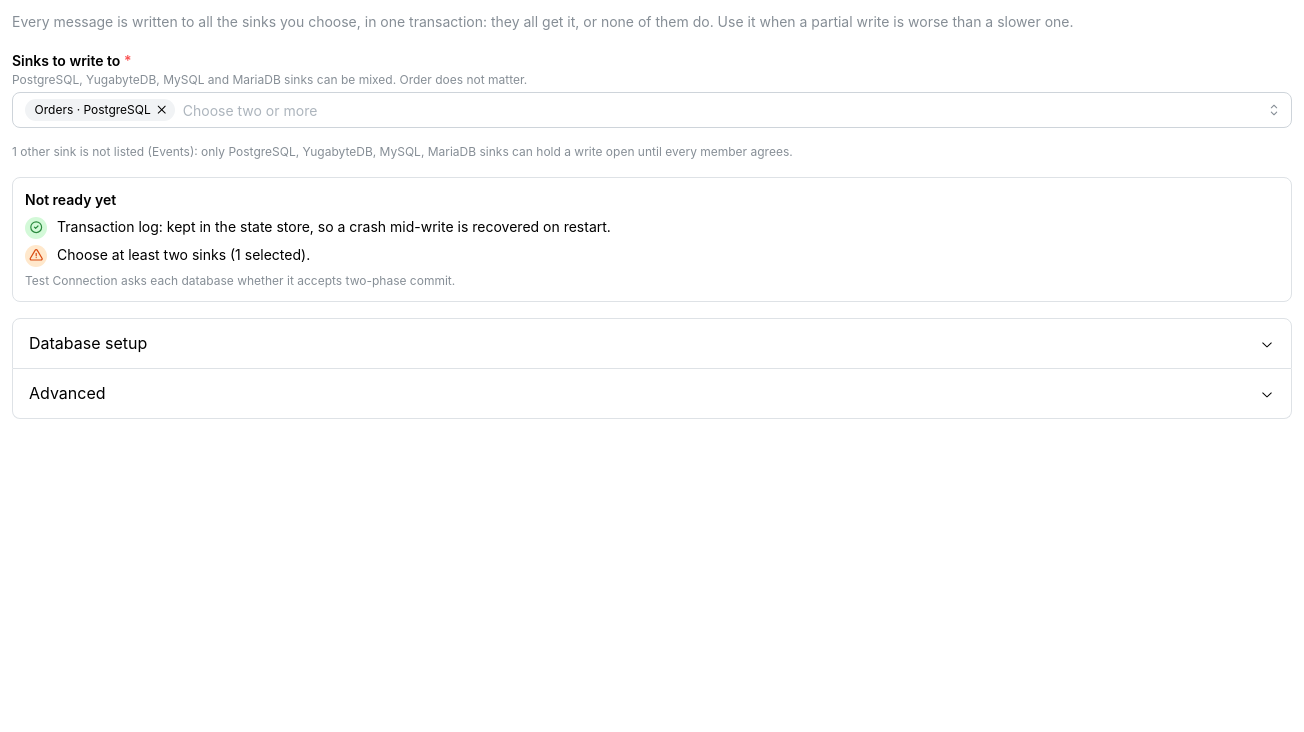
Test case: the transactional group form keeps the rare settings out of the way › shows database setup only for the kinds of database chosen
Click the button "Database setup": (88, 343) [13, 319, 1291, 368]
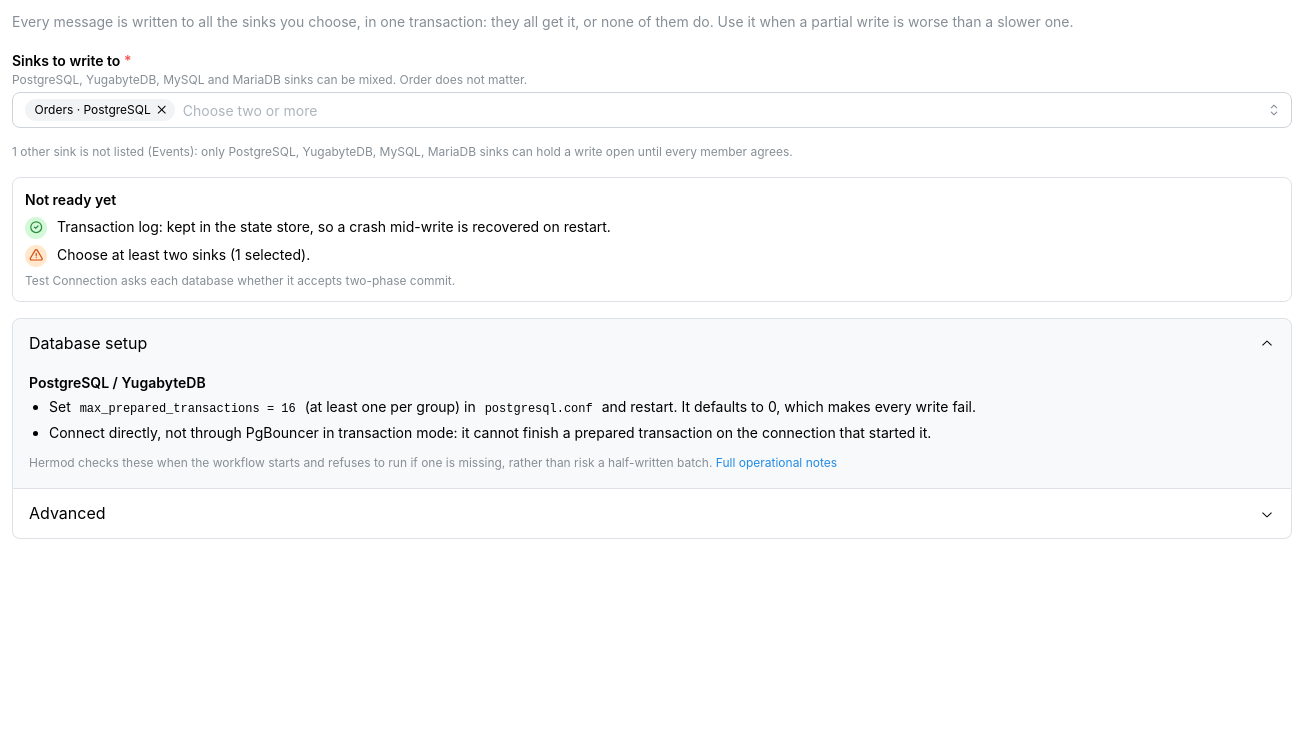
expect the text "max_prepared_transactions = 16" is shown: met, box [75, 400, 301, 418]
